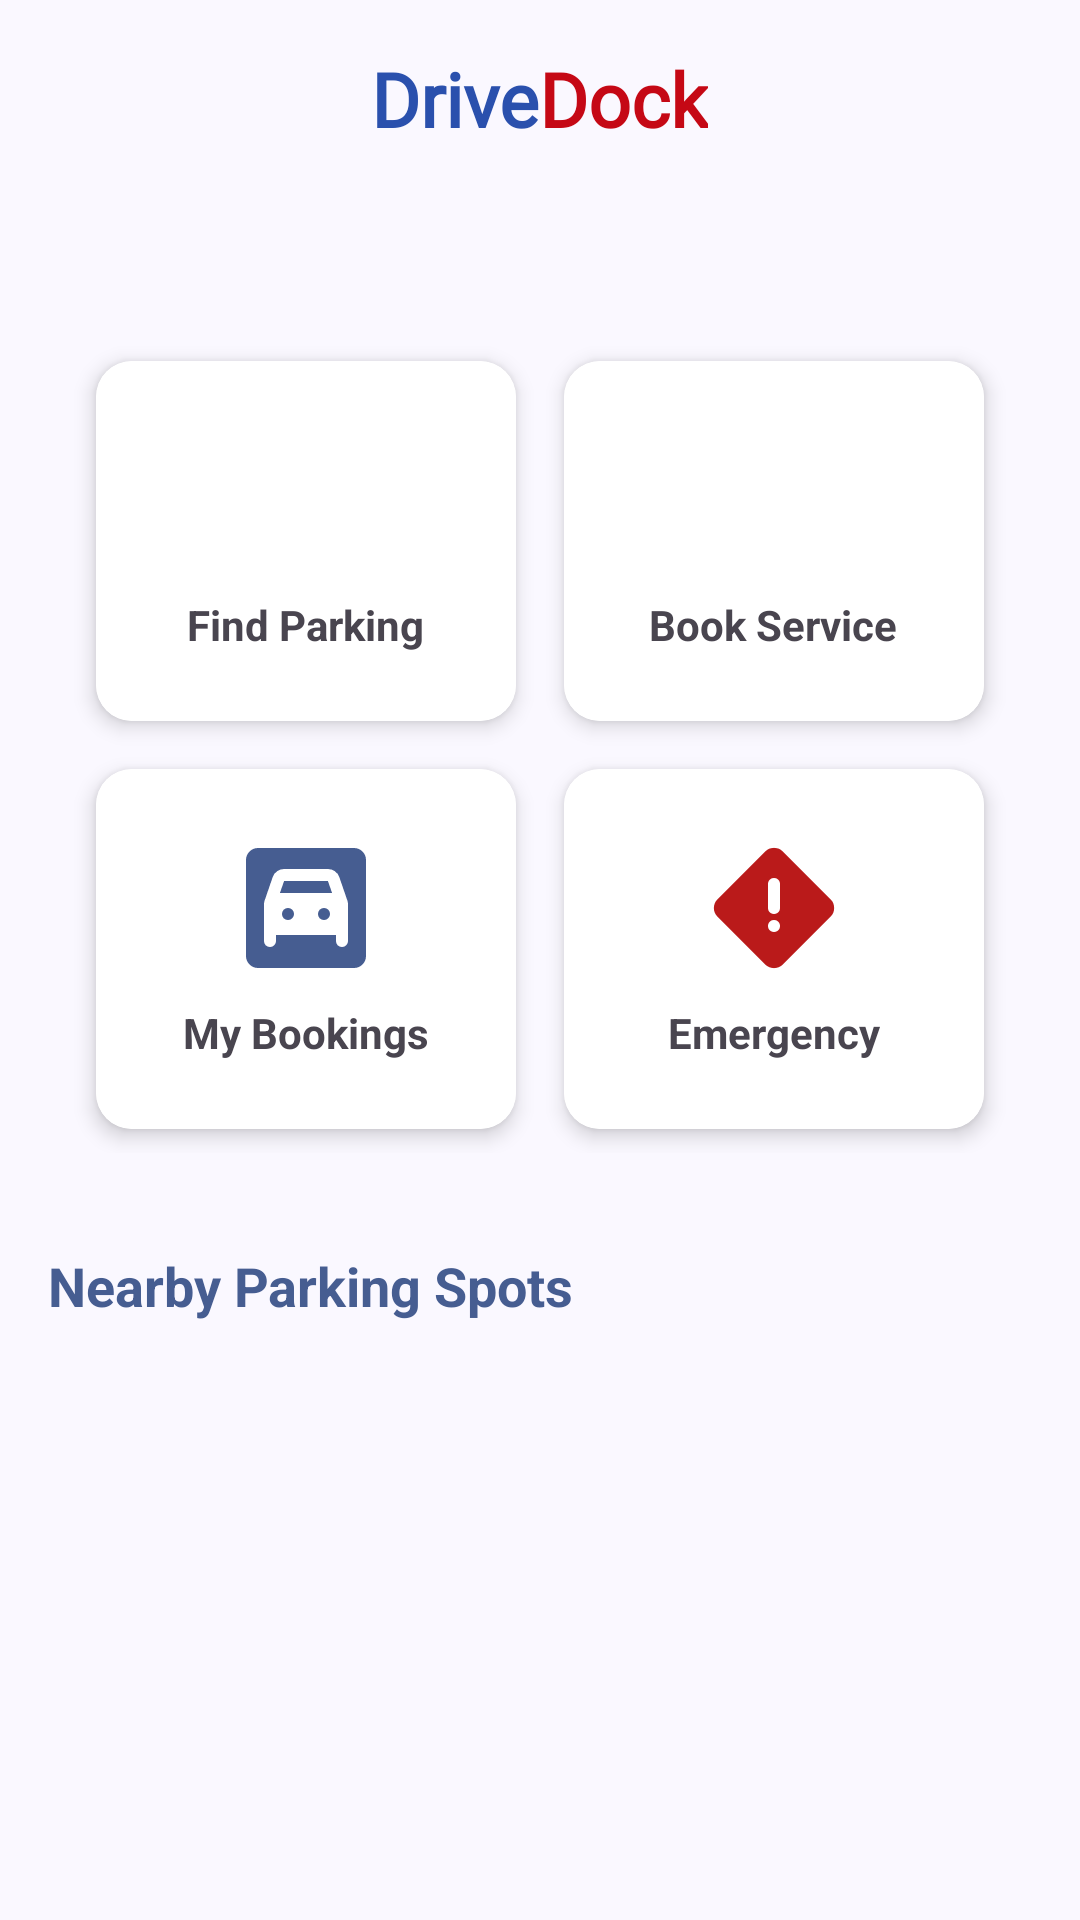

Named icons in this screenshot (1080 × 1920) and their centers, (x=x, y=y):
garage: (x=306, y=908)
